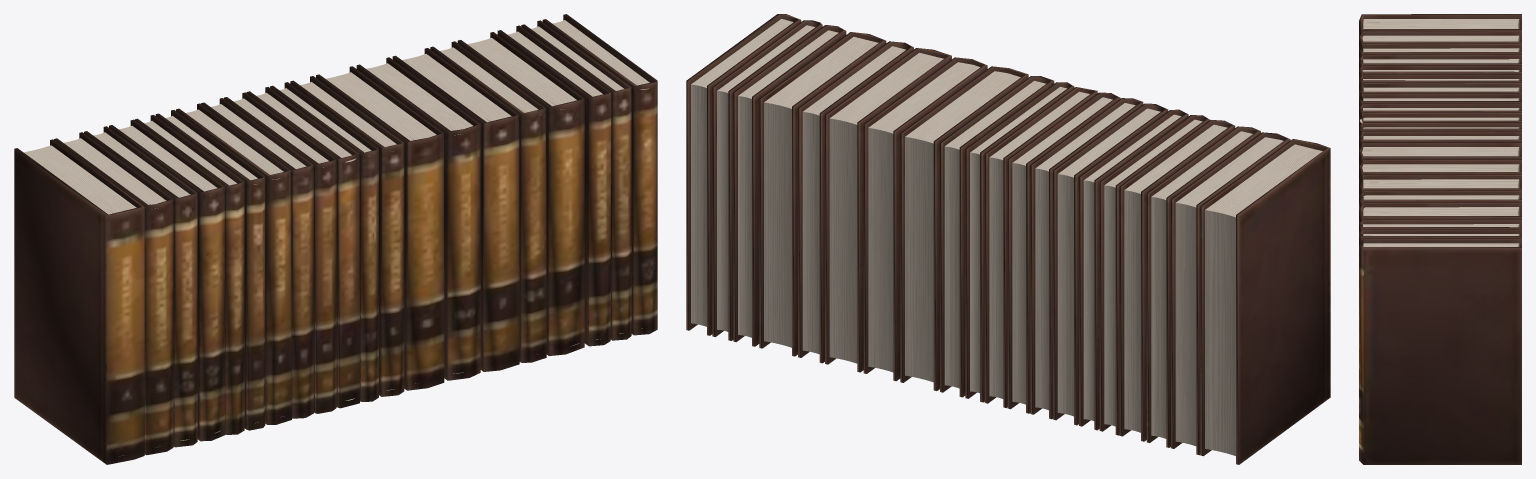
File: book_encyclopedia_set_01.glb
The picture shows the model from 3 angles, left to right: view 1: azimuth 30°, elevation 25°; view 2: azimuth 150°, elevation 25°; view 3: azimuth 270°, elevation 25°; orthographic projection. The views are drawn at different scales.
Parts seen in each view (by area): view 1: book_encyclopedia_set_01_book01; view 2: book_encyclopedia_set_01_book01; view 3: book_encyclopedia_set_01_book01.
Boxes of the visible parts, x1,y1,x2,y2 form: book_encyclopedia_set_01_book01: (14,14,657,464); book_encyclopedia_set_01_book01: (686,14,1330,464); book_encyclopedia_set_01_book01: (1359,14,1521,464).
Size of the model in its own units: 0.5513 by 0.2374 by 0.1619.
2 materials, 2 textured.
